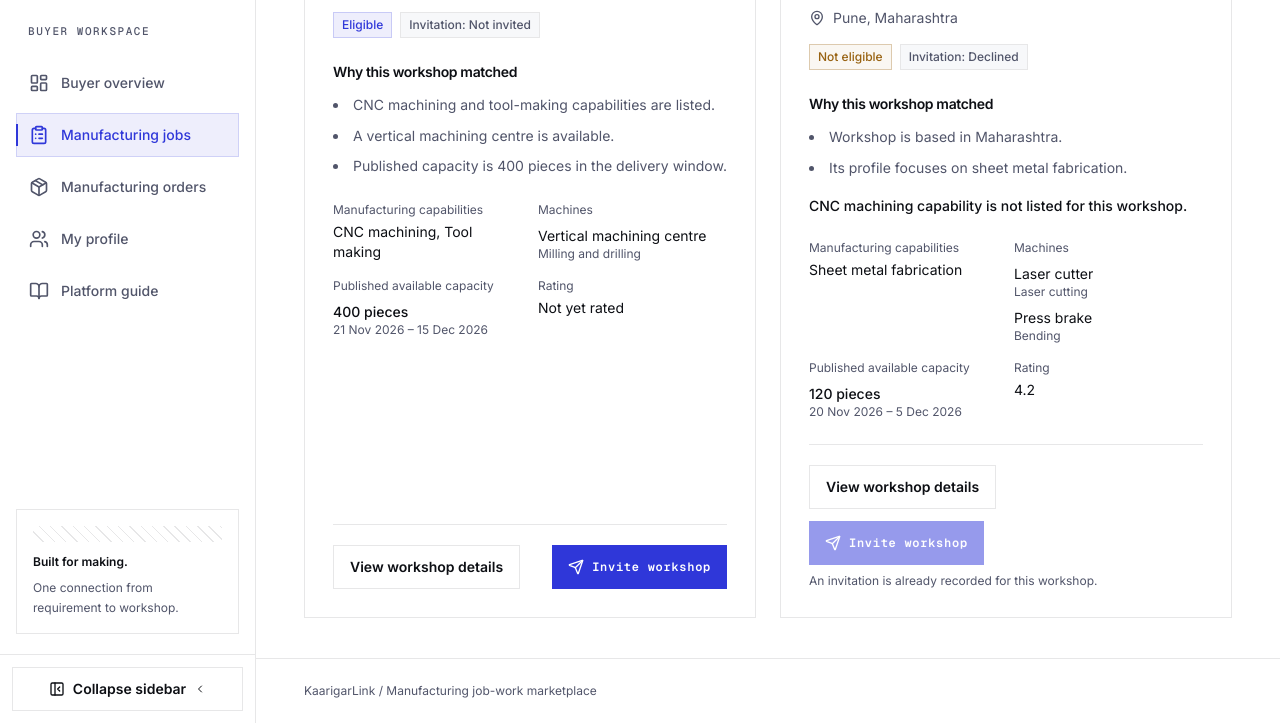
reports invitation failure inside the confirmation without a fake success
(page scrolled)
Click the button "Invite workshop" below "21 Nov 2026": (640, 567) [552,545,727,589]
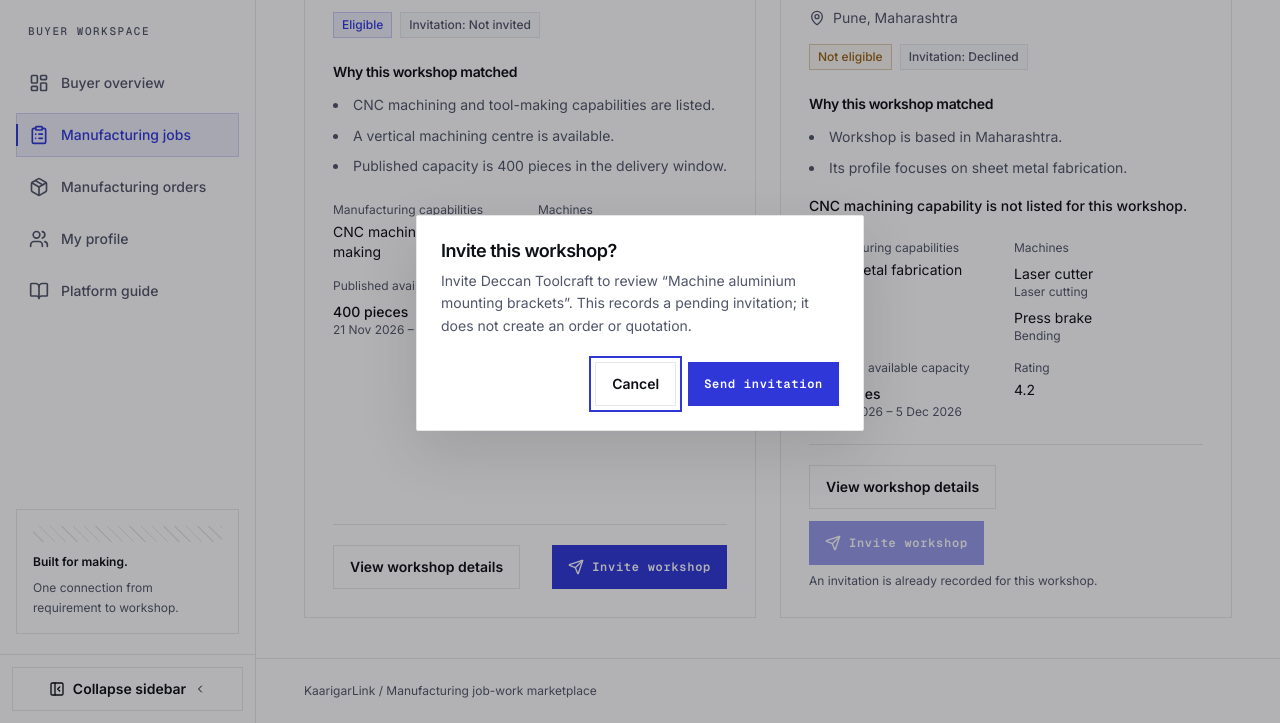
Click the button "Send invitation": (764, 384) [688,362,839,406]
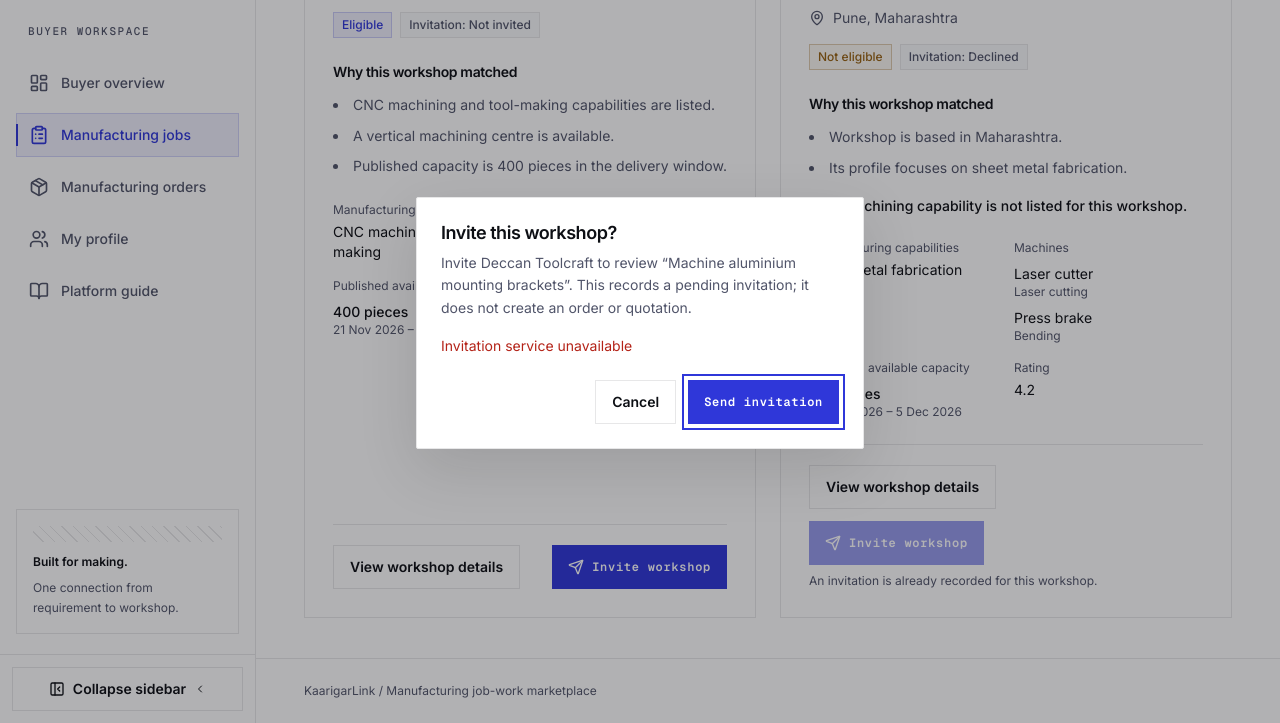
Expected: the message reads "Invitation service unavailable", [441,337,632,354]
